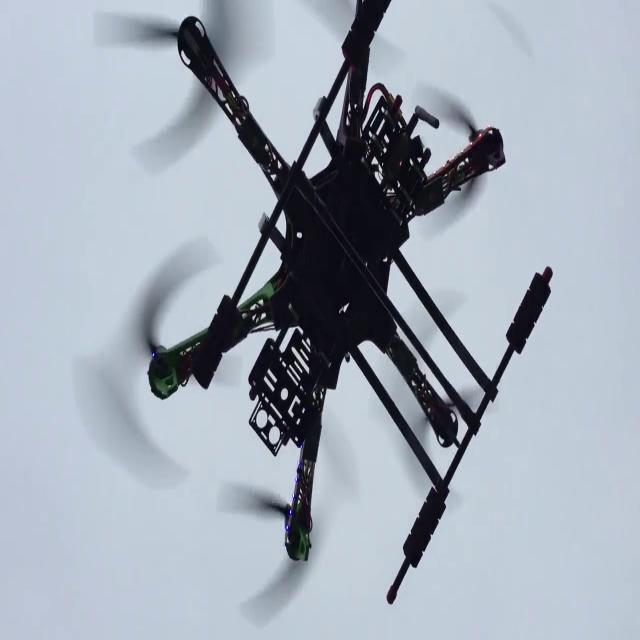drone: (103, 6, 546, 640)
